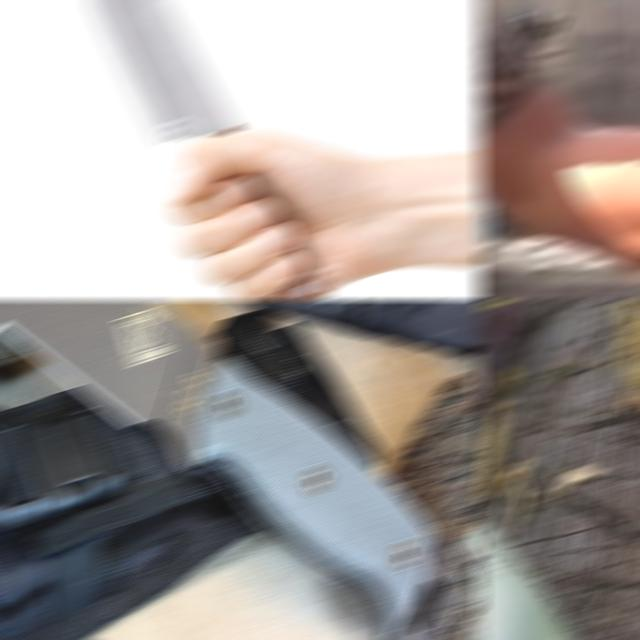Knife: (86, 1, 236, 141)
Knife_Handle: (86, 1, 484, 299)
